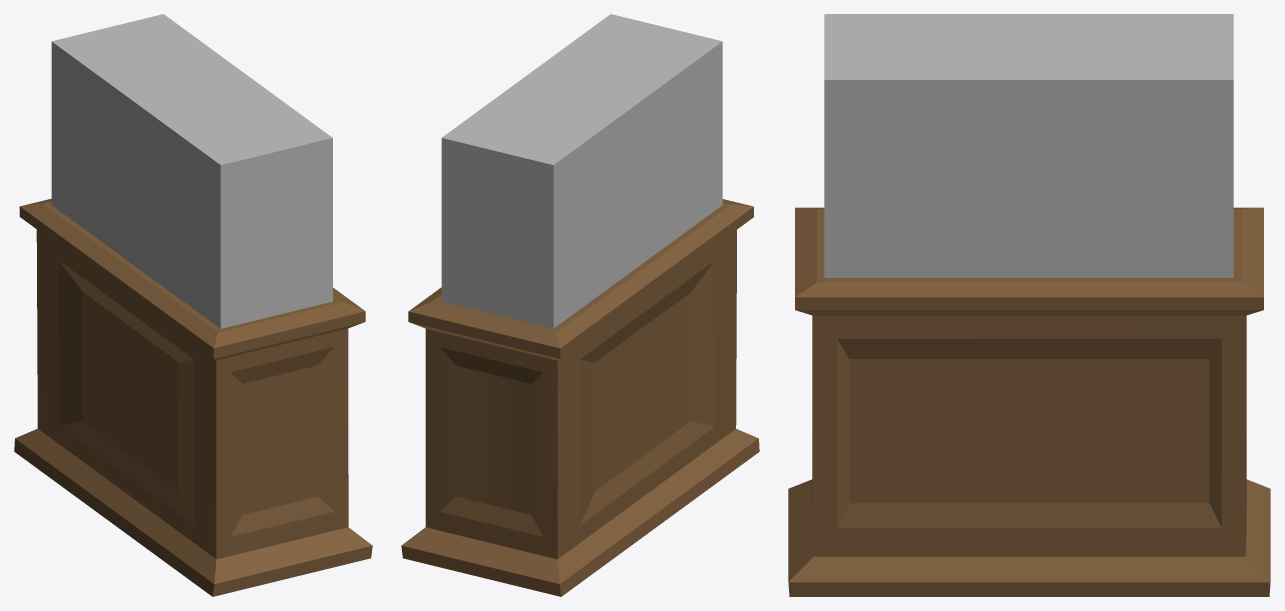
File: fish bone display.fbx
3 views of the same model, side by side, from view 1: azimuth 30°, elevation 25°; view 2: azimuth 150°, elevation 25°; view 3: azimuth 270°, elevation 25° (orthographic). The views are drawn at different scales.
Visible parts, largest first — view 1: pasted__pCube67, pCube79; view 2: pasted__pCube67, pCube79; view 3: pasted__pCube67, pCube79.
Boxes of the visible parts, left/top/right/bottom form: pasted__pCube67: left=14, top=198, right=372, bottom=596; pCube79: left=51, top=14, right=332, bottom=328; pasted__pCube67: left=401, top=199, right=759, bottom=596; pCube79: left=441, top=14, right=722, bottom=328; pasted__pCube67: left=788, top=207, right=1270, bottom=596; pCube79: left=824, top=14, right=1233, bottom=277.
Bounding box in the file's own units: 1.86 × 4.62 × 4.02.
